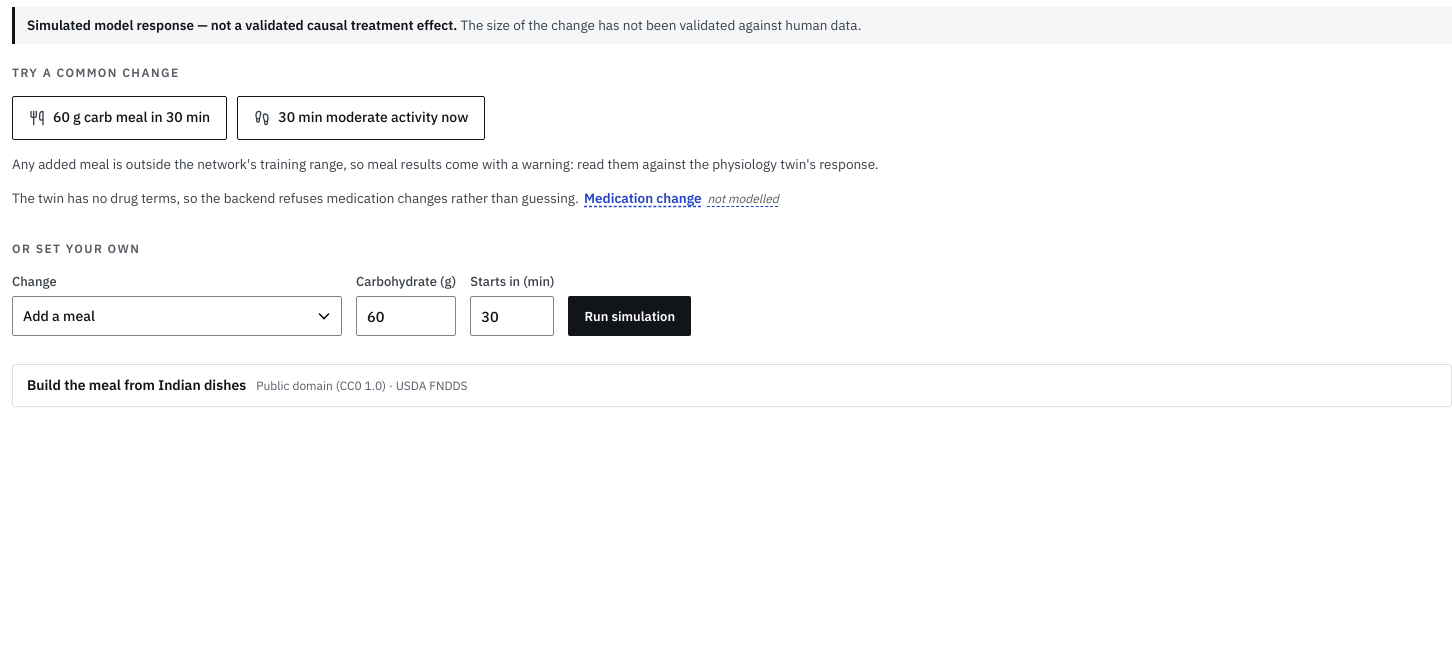
Test: ScenarioEditor — backend-driven what-if › runs a preset activity scenario and shows backend approximation warnings
Click the button "30 min moderate activity now".
click(361, 118)  # box x1=237 y1=96 x2=485 y2=140
(page scrolled)
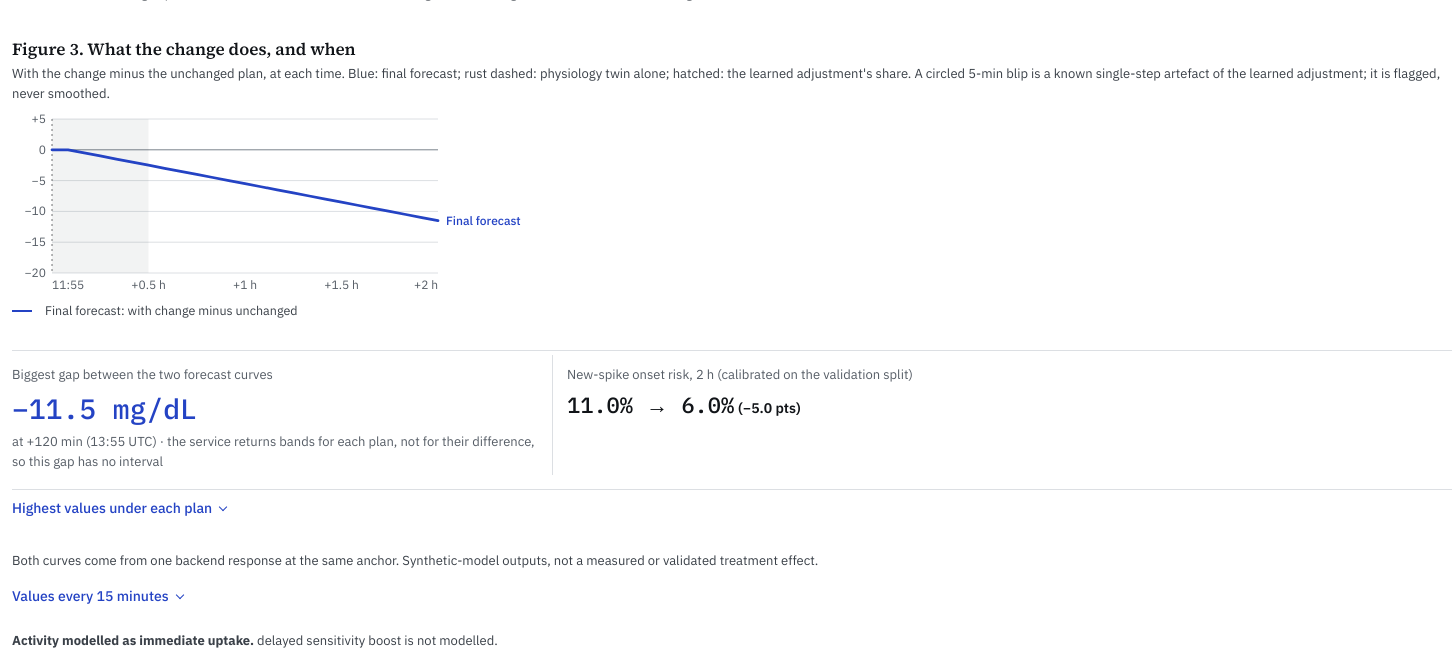
Result: the element with test id "scenario-warning" shows "Activity modelled as immediate uptake" at x1=12 y1=632 x2=250 y2=648
